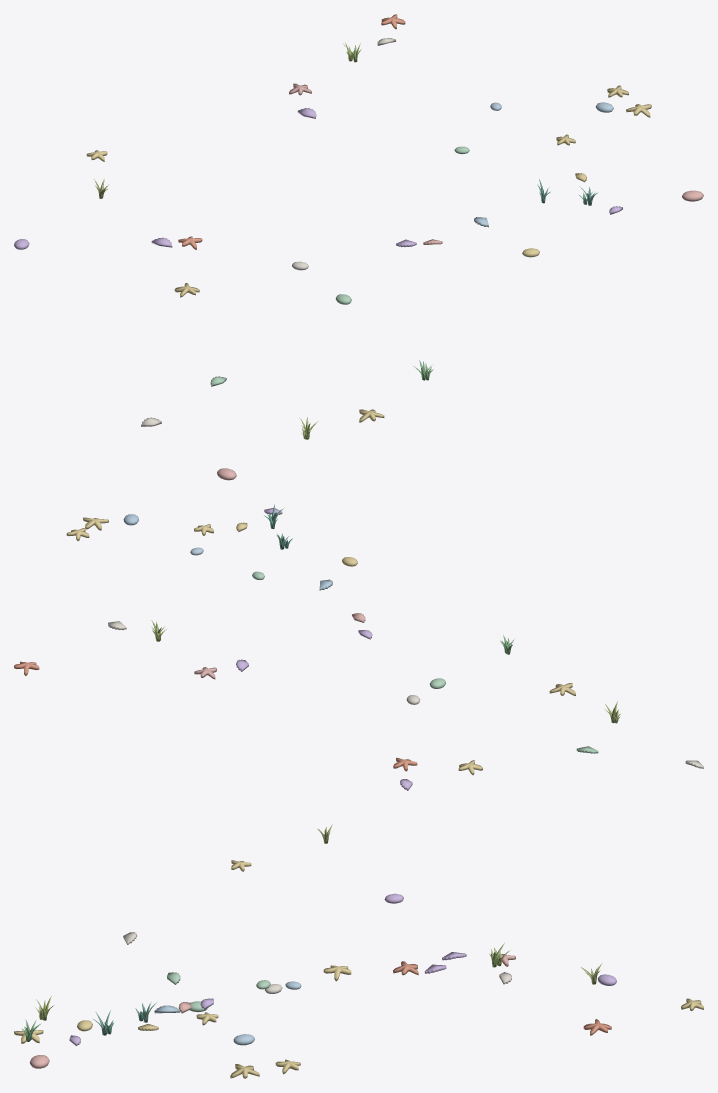
The model's file is W2_FloraRing_8_8.fbx.
3 views of the same model, one above another, from view 1: azimuth 30°, elevation 25°; view 2: azimuth 150°, elevation 25°; view 3: azimuth 270°, elevation 25° (orthographic). The views are drawn at different scales.
Parts seen in each view (by area): view 1: W2_FloraRing_8_8; view 2: W2_FloraRing_8_8; view 3: W2_FloraRing_8_8.
Boxes of the visible parts, x1=… form: W2_FloraRing_8_8: x1=14, y1=14, x2=703, y2=439; W2_FloraRing_8_8: x1=14, y1=468, x2=703, y2=903; W2_FloraRing_8_8: x1=14, y1=932, x2=703, y2=1078.
Size of the model in its own units: 4.03 by 1.28 by 3.82.
